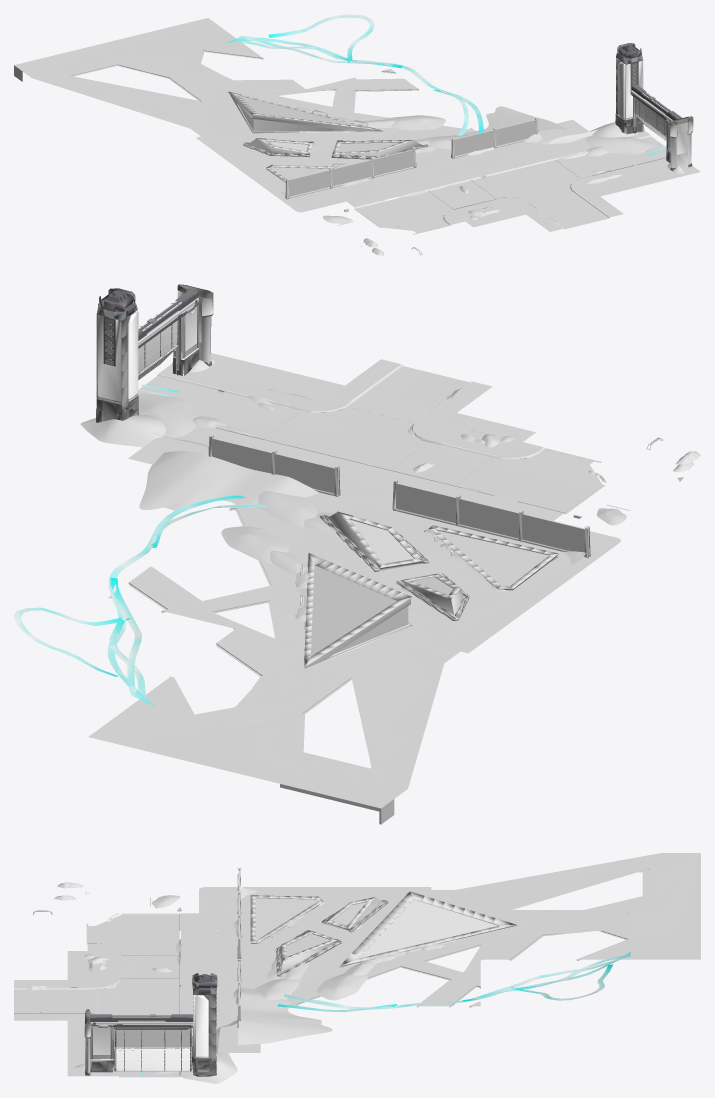
The model's file is cell_82_59.fbx.
3 renders of one model, top to bottom at view 1: azimuth 30°, elevation 25°; view 2: azimuth 150°, elevation 25°; view 3: azimuth 270°, elevation 25°, orthographic. The views are drawn at different scales.
Parts seen in each view (by area): view 1: SM_I_RoadFacility_Ground_C_07.mo, SM_I_RoadFacility_Ground_C_06.mo, SM_I_RoadFacility_Ground_C_12B.mo, SM_H_Building_FutureTech_BigDoor_03.mo.001, SpaceCenter_Long3_GenerateRoad_Sand_TireTracks_Width_Mesh_x1, SM_I_Terrain_Road_Desert_Decal_Sand_02.mo.083, SM_I_Terrain_Road_Desert_Decal_Sand_01.mo.086, SM_H_Fence_SoundproofWall_02.mo.042, SM_H_Fence_SoundproofWall_02.mo.049, SM_H_Fence_SoundproofWall_02.mo.050, SM_H_Fence_SoundproofWall_02.mo.043, SM_H_Fence_SoundproofWall_02.mo.051 (+3 smaller); view 2: SM_I_RoadFacility_Ground_C_07.mo, SM_I_RoadFacility_Ground_C_06.mo, SM_I_RoadFacility_Ground_C_12B.mo, SM_H_Building_FutureTech_BigDoor_03.mo.001, SM_I_Terrain_Road_Desert_Decal_Sand_02.mo.083, SpaceCenter_Long3_GenerateRoad_Sand_TireTracks_Width_Mesh_x1, SM_H_Fence_SoundproofWall_02.mo.042, SM_I_Terrain_Road_Desert_Decal_Sand_01.mo.087, SM_H_Fence_SoundproofWall_02.mo.043, SM_H_Fence_SoundproofWall_02.mo.049, SM_I_Terrain_Road_Desert_Decal_Sand_01.mo.086, SM_H_Fence_SoundproofWall_02.mo.050 (+4 smaller); view 3: SM_I_RoadFacility_Ground_C_07.mo, SM_I_RoadFacility_Ground_C_06.mo, SM_I_RoadFacility_Ground_C_12B.mo, SM_H_Building_FutureTech_BigDoor_03.mo.001, SM_I_Terrain_Road_Desert_Decal_Sand_02.mo.083, SpaceCenter_Long3_GenerateRoad_Sand_TireTracks_Width_Mesh_x1, SM_H_Building_FutureTech_BigDoor_03B.mo, SM_H_Building_FutureTech_BigDoor_03C.mo, SM_I_Terrain_Road_Desert_Decal_Sand_08.mo.014, SM_I_Terrain_Road_Desert_Decal_Sand_01.mo.087, SM_I_Terrain_Road_Desert_Decal_Sand_08.mo.016.
Part boxes in pixels (left/top/right/bottom): SM_I_RoadFacility_Ground_C_07.mo: left=14, top=18, right=590, bottom=212; SM_I_RoadFacility_Ground_C_06.mo: left=347, top=130, right=700, bottom=232; SM_I_RoadFacility_Ground_C_12B.mo: left=228, top=91, right=427, bottom=182; SM_H_Building_FutureTech_BigDoor_03.mo.001: left=615, top=43, right=693, bottom=170; SpaceCenter_Long3_GenerateRoad_Sand_TireTracks_Width_Mesh_x1: left=226, top=14, right=483, bottom=134; SM_I_Terrain_Road_Desert_Decal_Sand_02.mo.083: left=464, top=106, right=568, bottom=135; SM_I_Terrain_Road_Desert_Decal_Sand_01.mo.086: left=585, top=136, right=658, bottom=154; SM_H_Fence_SoundproofWall_02.mo.042: left=285, top=169, right=330, bottom=199; SM_H_Fence_SoundproofWall_02.mo.049: left=371, top=149, right=413, bottom=178; SM_H_Fence_SoundproofWall_02.mo.050: left=451, top=130, right=494, bottom=158; SM_H_Fence_SoundproofWall_02.mo.043: left=329, top=159, right=372, bottom=188; SM_H_Fence_SoundproofWall_02.mo.051: left=493, top=119, right=535, bottom=148; SM_I_RoadFacility_Ground_C_07.mo: left=88, top=433, right=620, bottom=824; SM_I_RoadFacility_Ground_C_06.mo: left=138, top=353, right=602, bottom=520; SM_I_RoadFacility_Ground_C_12B.mo: left=304, top=511, right=558, bottom=669; SM_H_Building_FutureTech_BigDoor_03.mo.001: left=96, top=284, right=213, bottom=422; SM_I_Terrain_Road_Desert_Decal_Sand_02.mo.083: left=139, top=451, right=318, bottom=510; SpaceCenter_Long3_GenerateRoad_Sand_TireTracks_Width_Mesh_x1: left=14, top=496, right=265, bottom=706; SM_H_Fence_SoundproofWall_02.mo.042: left=522, top=513, right=590, bottom=558; SM_I_Terrain_Road_Desert_Decal_Sand_01.mo.087: left=80, top=414, right=165, bottom=447; SM_H_Fence_SoundproofWall_02.mo.043: left=459, top=498, right=524, bottom=541; SM_H_Fence_SoundproofWall_02.mo.049: left=396, top=483, right=461, bottom=526; SM_I_Terrain_Road_Desert_Decal_Sand_01.mo.086: left=138, top=393, right=201, bottom=437; SM_H_Fence_SoundproofWall_02.mo.050: left=274, top=453, right=340, bottom=496; SM_I_RoadFacility_Ground_C_07.mo: left=199, top=853, right=700, bottom=1052; SM_I_RoadFacility_Ground_C_06.mo: left=14, top=913, right=198, bottom=1077; SM_I_RoadFacility_Ground_C_12B.mo: left=250, top=891, right=516, bottom=976; SM_H_Building_FutureTech_BigDoor_03.mo.001: left=84, top=973, right=217, bottom=1076; SM_I_Terrain_Road_Desert_Decal_Sand_02.mo.083: left=238, top=988, right=332, bottom=1044; SpaceCenter_Long3_GenerateRoad_Sand_TireTracks_Width_Mesh_x1: left=286, top=952, right=630, bottom=1012; SM_H_Building_FutureTech_BigDoor_03B.mo: left=114, top=1047, right=191, bottom=1071; SM_H_Building_FutureTech_BigDoor_03C.mo: left=114, top=1027, right=191, bottom=1048; SM_I_Terrain_Road_Desert_Decal_Sand_08.mo.014: left=317, top=973, right=367, bottom=1000; SM_I_Terrain_Road_Desert_Decal_Sand_01.mo.087: left=180, top=1052, right=237, bottom=1083; SM_I_Terrain_Road_Desert_Decal_Sand_08.mo.016: left=254, top=979, right=300, bottom=999.
Bounding box in the file's own units: 100 × 21.96 × 128.
